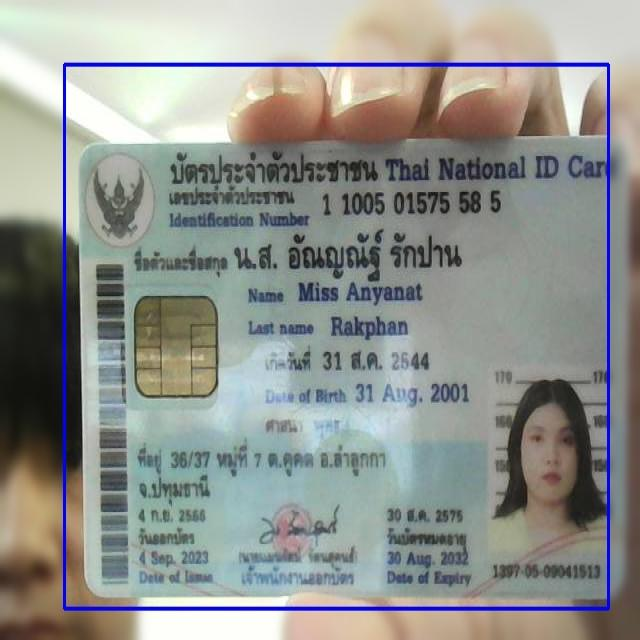Address_th: (132, 437, 392, 508)
Date_of_Birth: (351, 377, 474, 412)
Date_of_Expiry: (379, 548, 477, 572)
Date_of_Issue: (134, 548, 215, 570)
First_Name: (295, 280, 426, 309)
ID_Number: (319, 187, 505, 221)
Image: (492, 363, 612, 562)
Last_Name: (327, 311, 412, 344)
Thai_Name: (230, 228, 468, 282)
